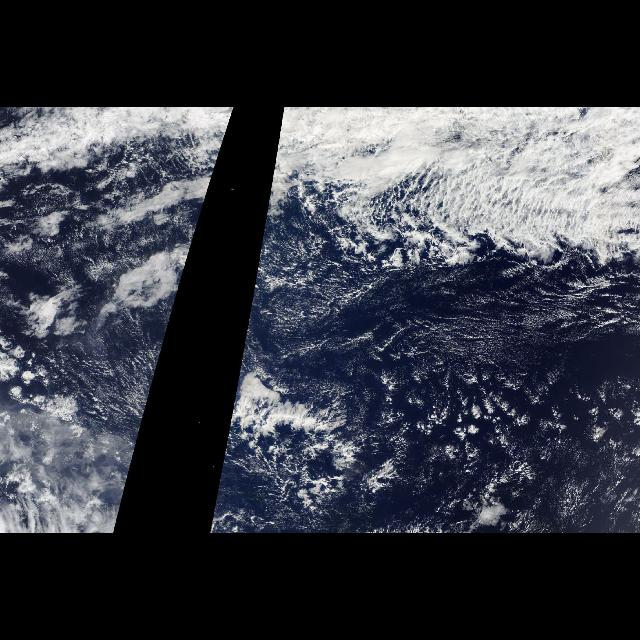Sugar: (269, 262, 627, 366)
